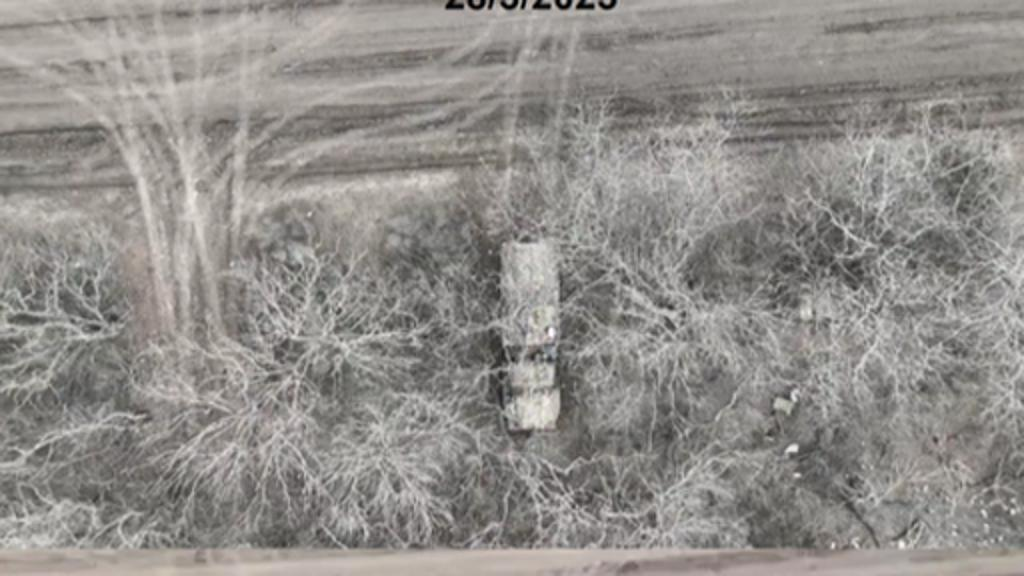TRUCK: (482, 220, 574, 438)
